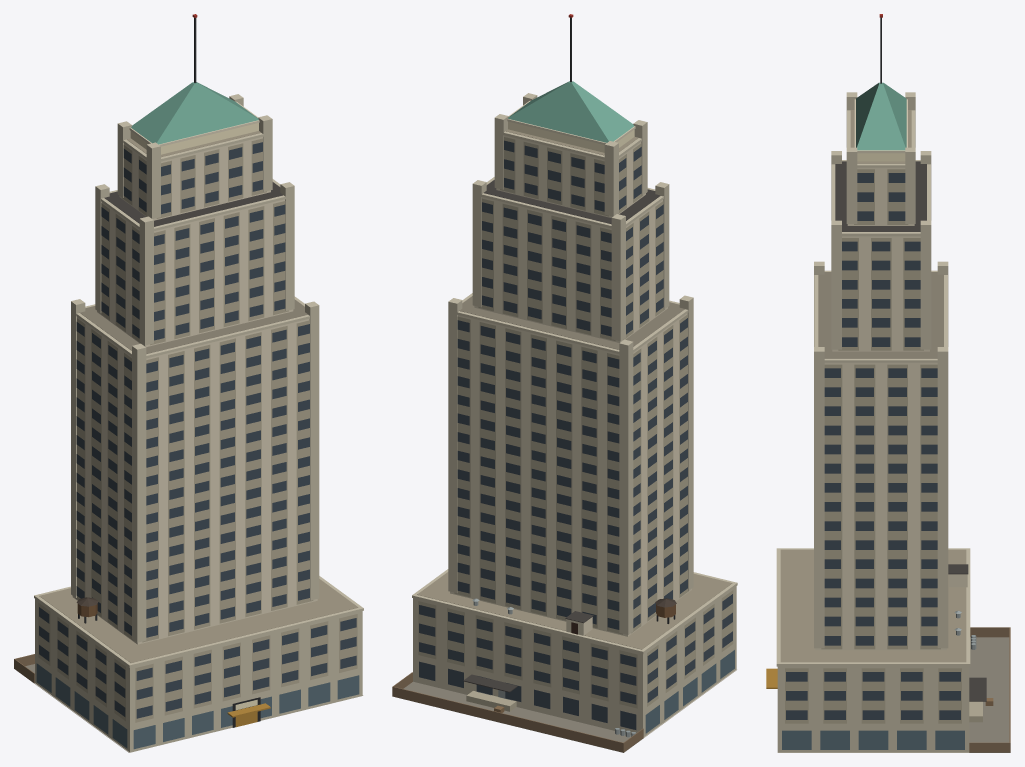
The model's file is glasstower_wt.glb.
The picture shows the model from 3 angles, left to right: view 1: azimuth 30°, elevation 25°; view 2: azimuth 150°, elevation 25°; view 3: azimuth 270°, elevation 25°; orthographic projection. The views are drawn at different scales.
Parts seen in each view (by area): view 1: glasstower_wt; view 2: glasstower_wt; view 3: glasstower_wt.
Part boxes in pixels (box(x1,y1,x2,y2)): glasstower_wt: box(14, 14, 363, 752); glasstower_wt: box(392, 14, 737, 752); glasstower_wt: box(766, 14, 1010, 752).
Bounding box in the file's own units: 30 × 82.21 × 26.72.
